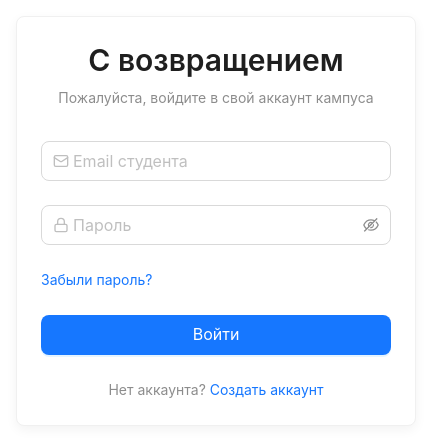
Test: Login › показывает ошибку при отправке пустой формы
Click the button "Войти": [216, 335] box [41,315,391,355]
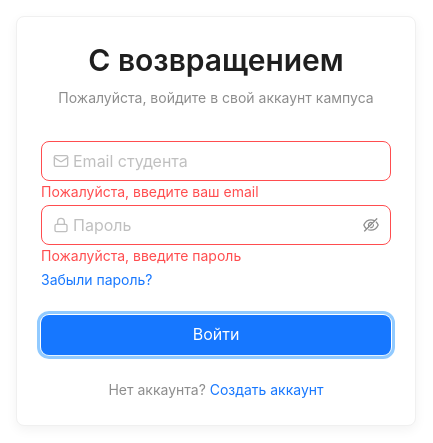
Check: the text "Пожалуйста, введите ваш email" is shown, box [41,183,259,200]
